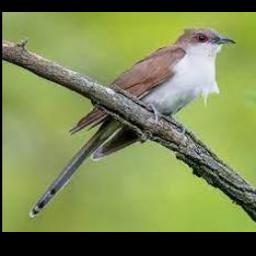Cuckoo: (28, 26, 235, 217)
